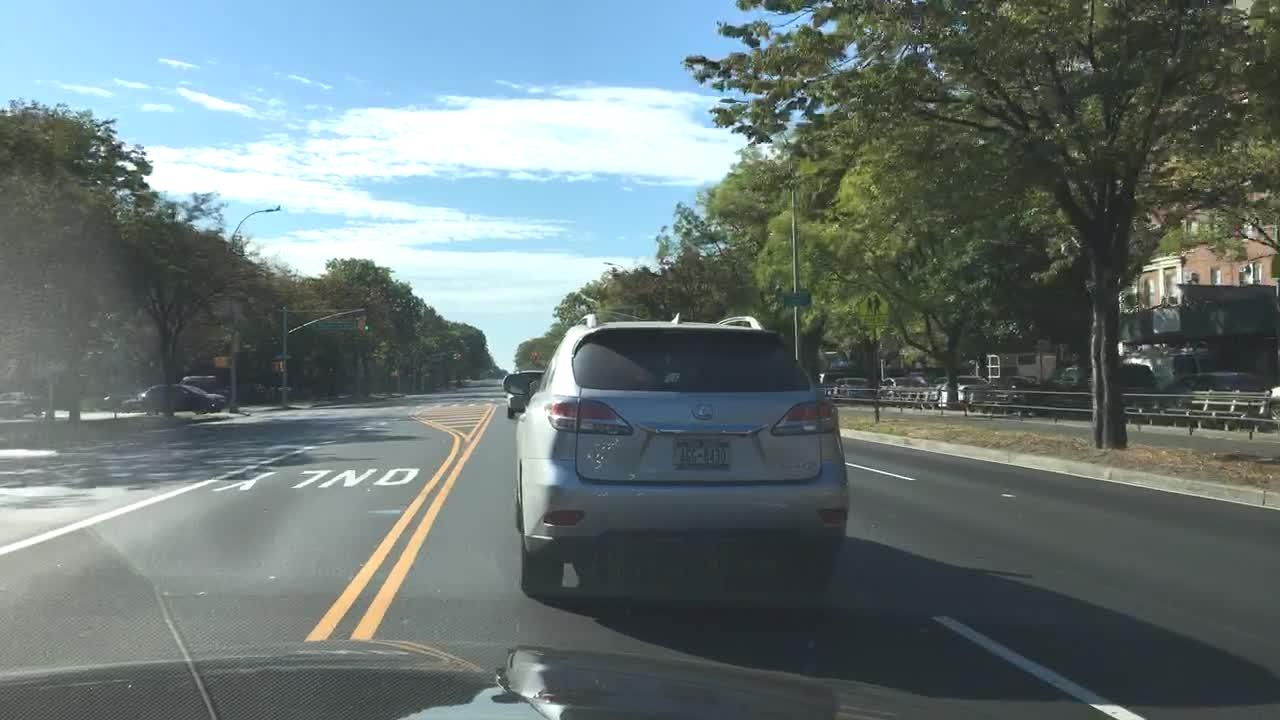lexus: (688, 393, 720, 426)
